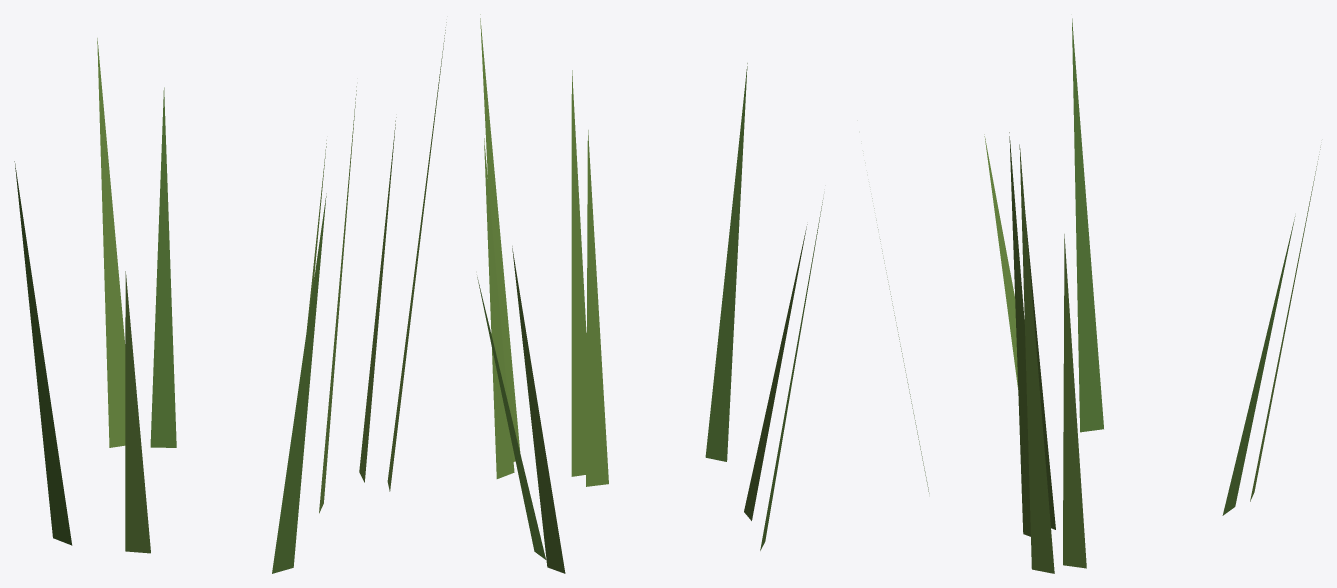
Rendered from reeds-a.glb.
The picture shows the model from 3 angles, left to right: view 1: azimuth 30°, elevation 25°; view 2: azimuth 150°, elevation 25°; view 3: azimuth 270°, elevation 25°; orthographic projection. The views are drawn at different scales.
Parts seen in each view (by area): view 1: reeds-a; view 2: reeds-a; view 3: reeds-a.
Boxes of the visible parts, left/top/right/bottom form: reeds-a: left=14, top=22, right=446, bottom=573; reeds-a: left=477, top=14, right=823, bottom=573; reeds-a: left=872, top=18, right=1320, bottom=573.
Bounding box in the file's own units: 0.2857 × 0.3167 × 0.2973.
